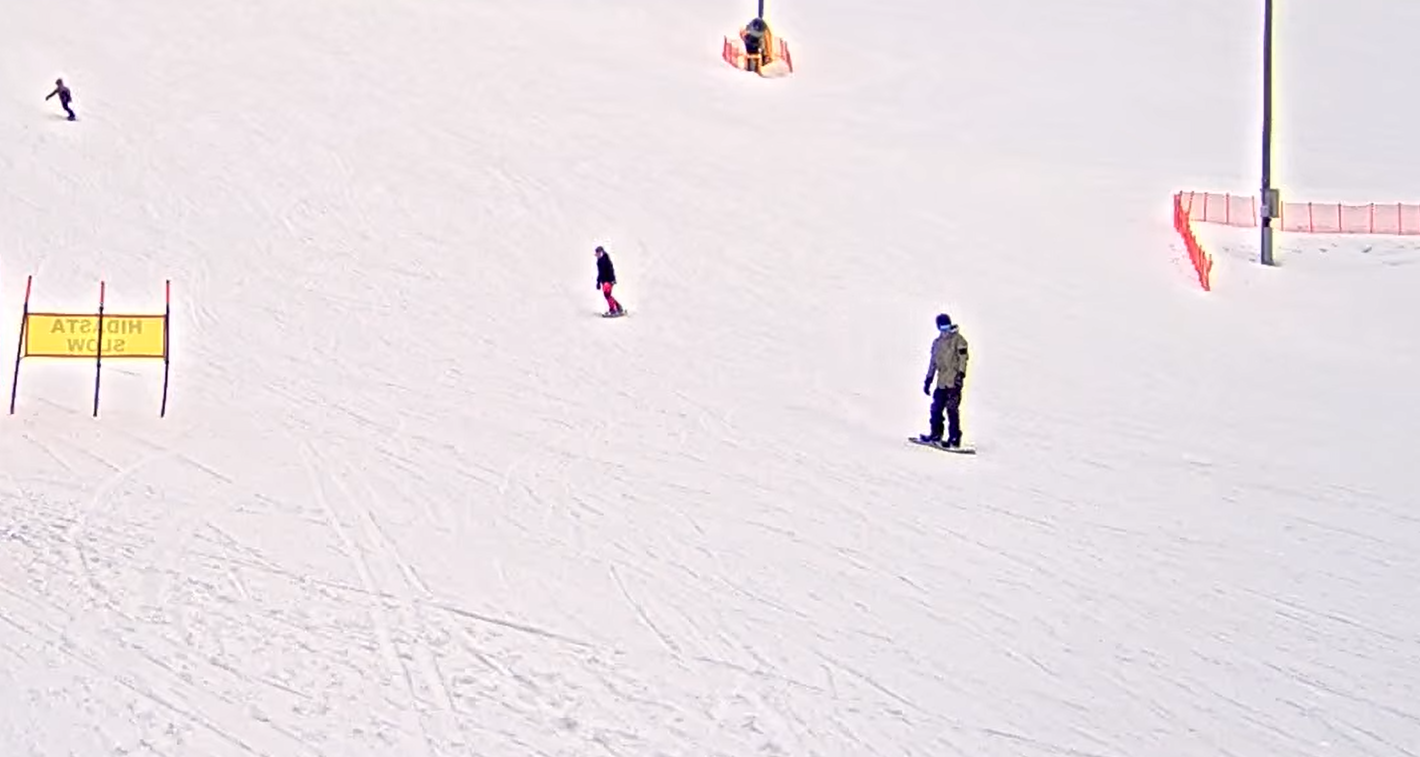snowboarder: (907, 312, 978, 454), (582, 244, 632, 318), (42, 77, 82, 123)
